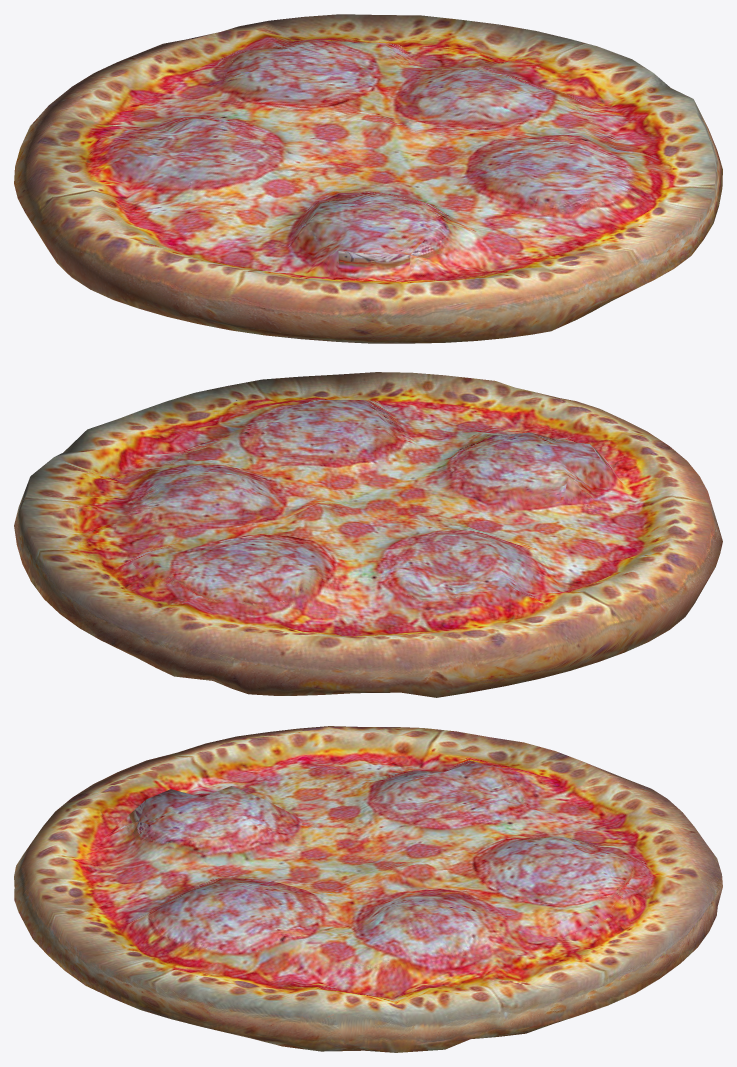
The model's file is pizza.glb.
The picture shows the model from 3 angles, top to bottom: view 1: azimuth 30°, elevation 25°; view 2: azimuth 150°, elevation 25°; view 3: azimuth 270°, elevation 25°; orthographic projection.
Parts seen in each view (by area): view 1: PizzaSalami; view 2: PizzaSalami; view 3: PizzaSalami.
Boxes of the visible parts, x1,y1,x2,y2 form: PizzaSalami: (14, 14, 722, 343); PizzaSalami: (14, 372, 722, 697); PizzaSalami: (14, 726, 722, 1052).
Size of the model in its own units: 0.3192 by 0.0341 by 0.3208.
1 material, 1 textured.
